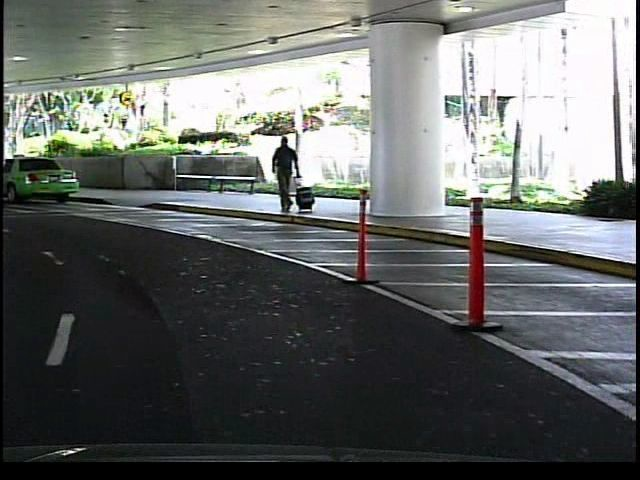person: (270, 129, 307, 218)
